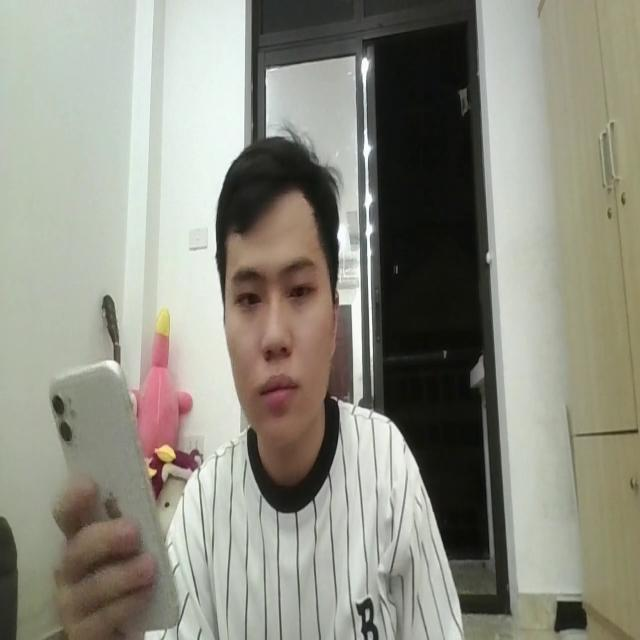phone: (48, 358, 178, 627)
student: (162, 130, 462, 640)
